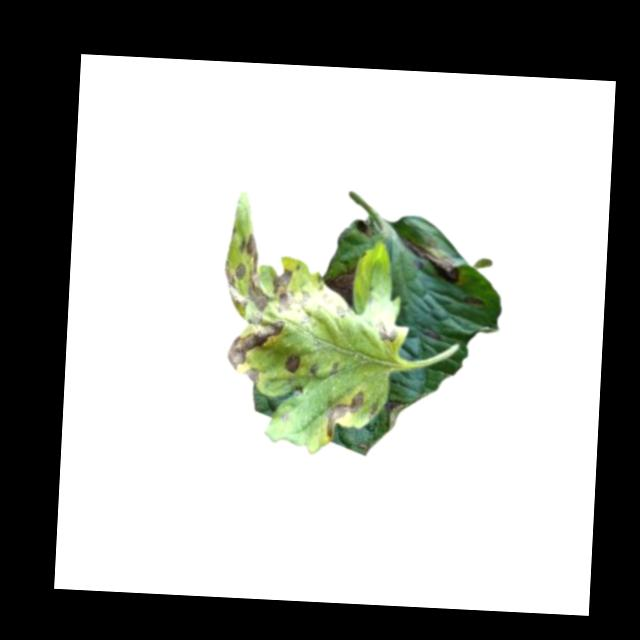Early_blight: (219, 232, 299, 385), (401, 229, 462, 288), (325, 388, 368, 440), (325, 267, 360, 312), (374, 315, 401, 343), (284, 353, 302, 375)
